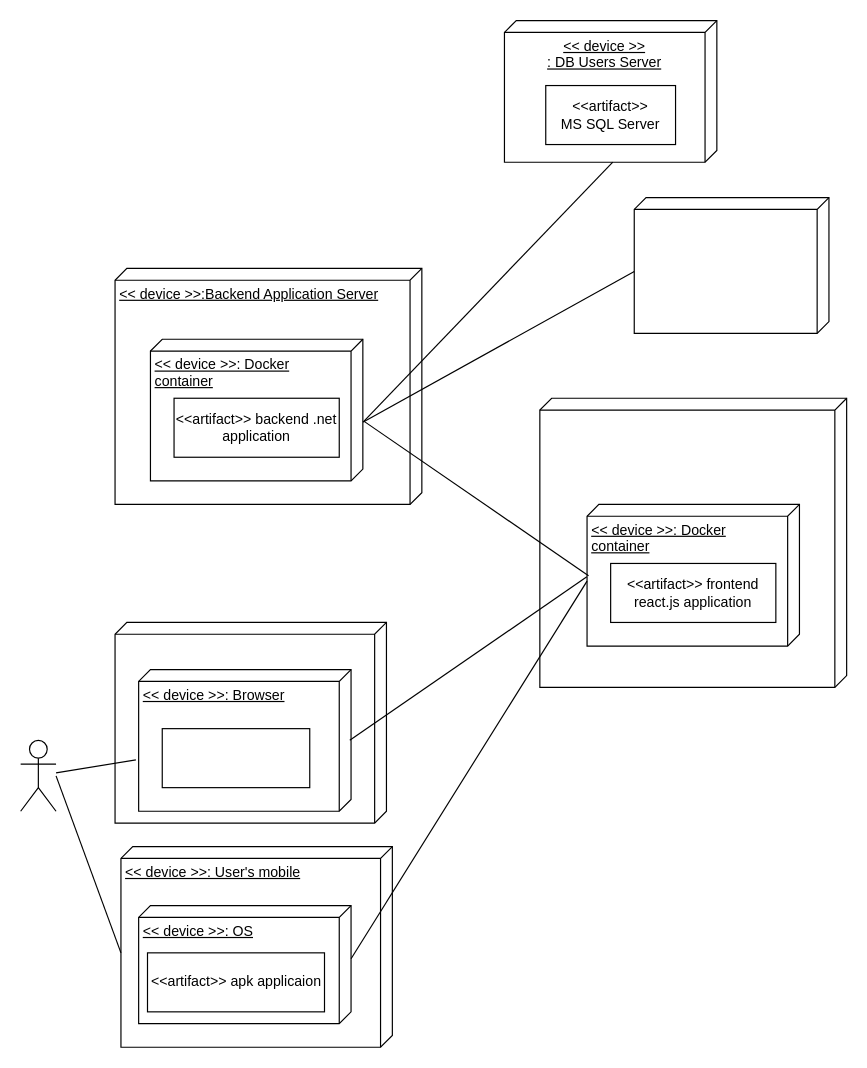
This 867x1068 diagram has some shape labels left out. The shapes that lost their labels are listed below. From the top down, each one's box as (x1, y1, x2, y2) in pixels, then its label:
(633, 196, 829, 333): << device >>: External data resource Server
(539, 397, 847, 687): << device >>:Frontend Application Server
(114, 621, 386, 823): << device >>: User's desktop
(19, 739, 56, 811): User
(161, 727, 310, 788): <<artifact>> HTML 5
